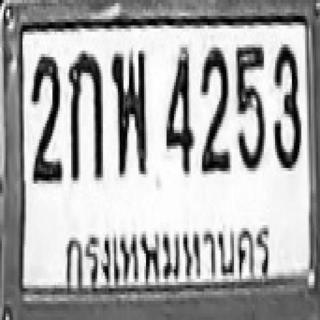A01: (68, 51, 103, 177)
A30: (110, 48, 146, 174)
N02: (30, 54, 62, 181), (199, 46, 229, 170)
N03: (272, 41, 300, 168)
N04: (165, 44, 193, 171)
N05: (234, 43, 264, 170)
P04: (58, 217, 277, 298)
